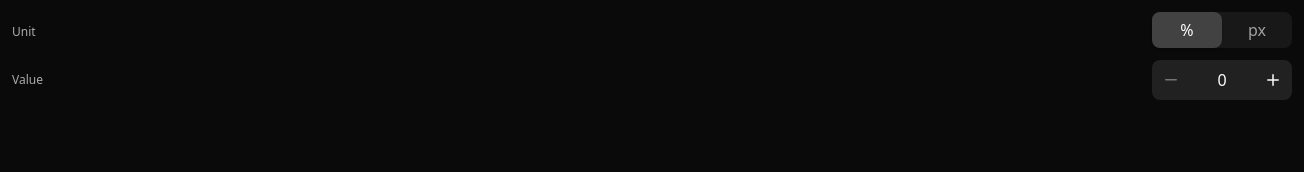
Test case: Count component › should disable - button at 0 and + button at 100 for %
Expected: the button named "Decrease" is disabled, x1=1153 y1=61 x2=1189 y2=99
Replace the text in the field with "100". click: (1222,80)
box: x1=1189 y1=61 x2=1255 y2=99
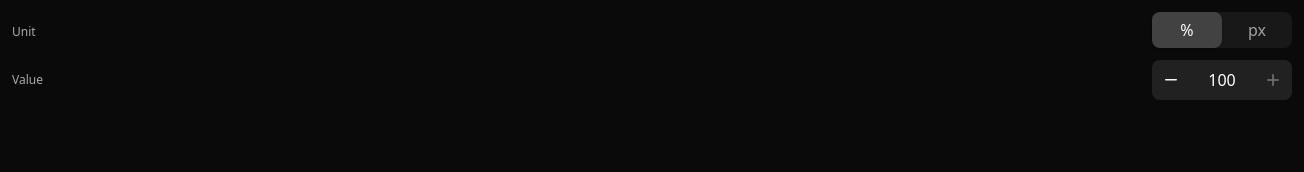
Expected: the button named "Increase" is disabled, x1=1255 y1=61 x2=1291 y2=99
Click the button "px". click: (1257,30)
box: x1=1222 y1=12 x2=1292 y2=48
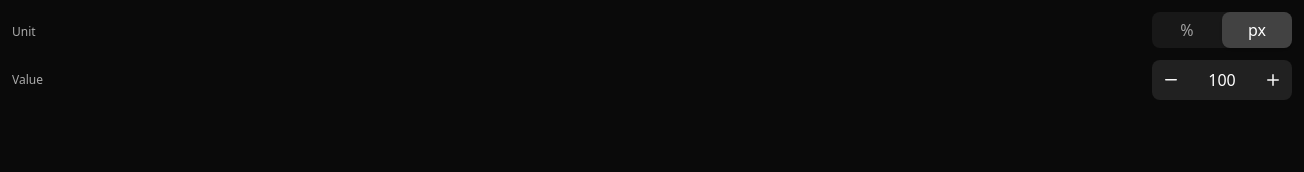
Expected: the button named "Increase" is enabled, x1=1255 y1=61 x2=1291 y2=99
